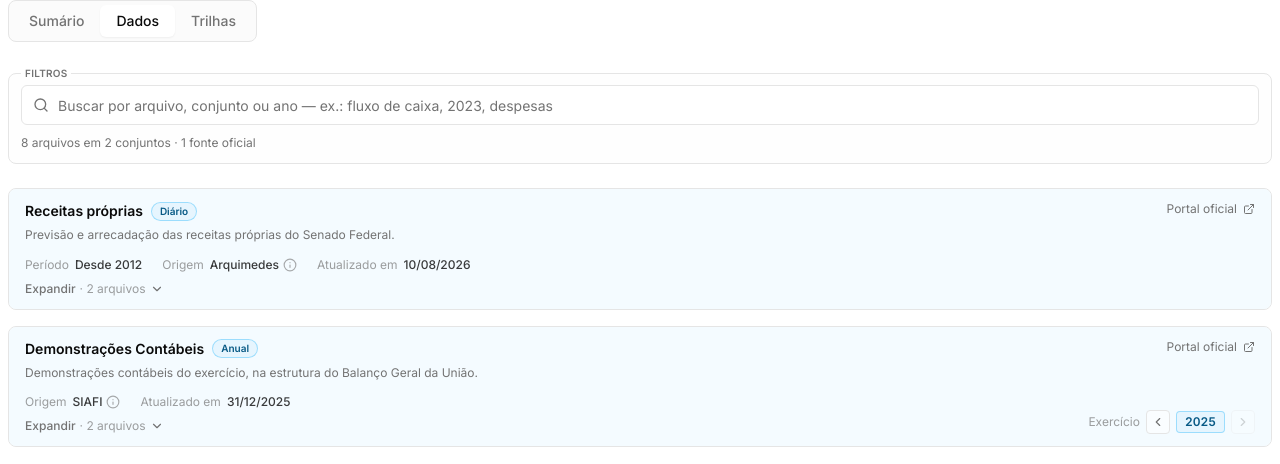
Test: FonteDeDadosView › abre no exercício mais recente e navega pelas setas
Expected: the text "8 arquivos em 2 conjuntos · 1 fonte oficial" is shown, [21,135,256,150]
Expected: the text "2025" is shown, [1176,411,1225,433]
Click the button named "Exercício anterior" at (1158, 422), box [1146,410,1170,434]
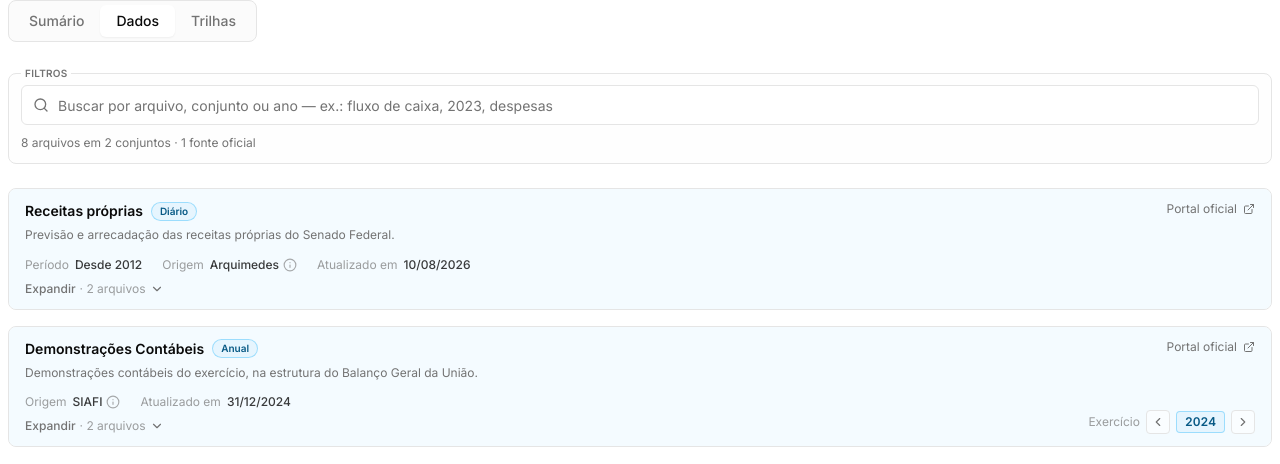
Result: the text "2024" is shown at [1176,411,1225,433]
